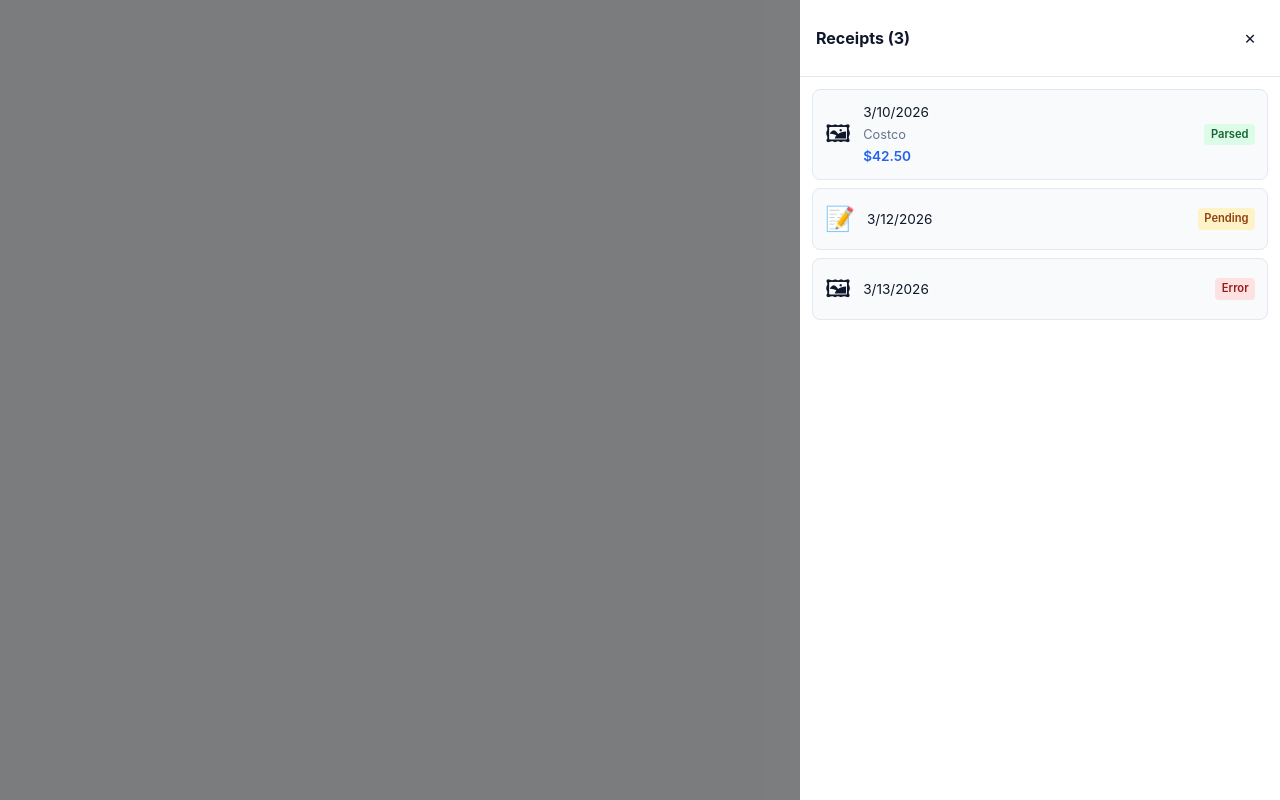
Test: ReceiptViewerModal › shows "still processing" for new receipts
What coordinates should you click on to do the following:
click the element with test id "receipt-list-item-2"
I would click on:
 (1040, 219)
Its box is [812,188,1268,250].
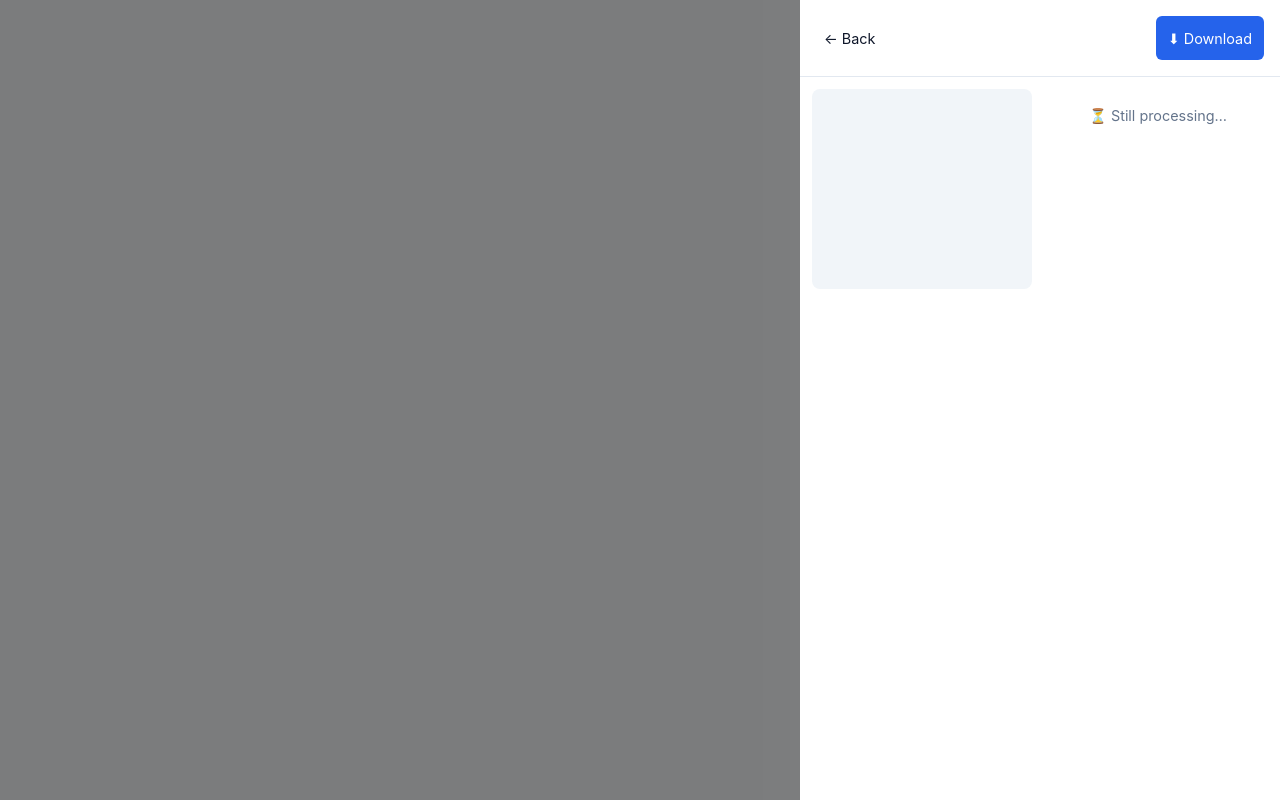
Check: the text "⏳ Still processing…" is shown, box [1089,107,1227,124]
